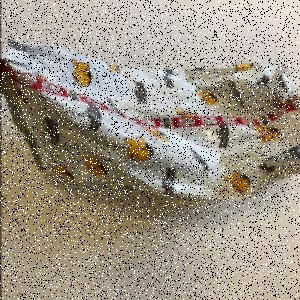Trash: (2, 40, 300, 204)
